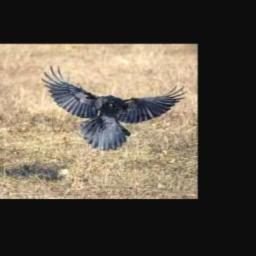Crow: (40, 65, 187, 150)
